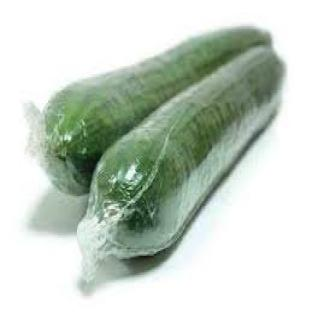Cucumber: (78, 47, 284, 279), (40, 28, 271, 194)
